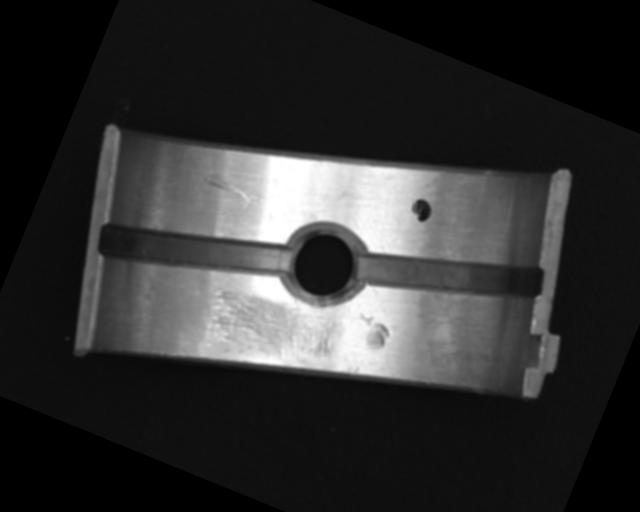blot: (407, 195, 435, 224)
bruise: (347, 310, 394, 354), (340, 361, 362, 380)
gap: (353, 202, 548, 346), (95, 182, 294, 321)
hole: (269, 209, 377, 320)
nick: (200, 169, 265, 209)
scratch: (192, 269, 351, 394)
